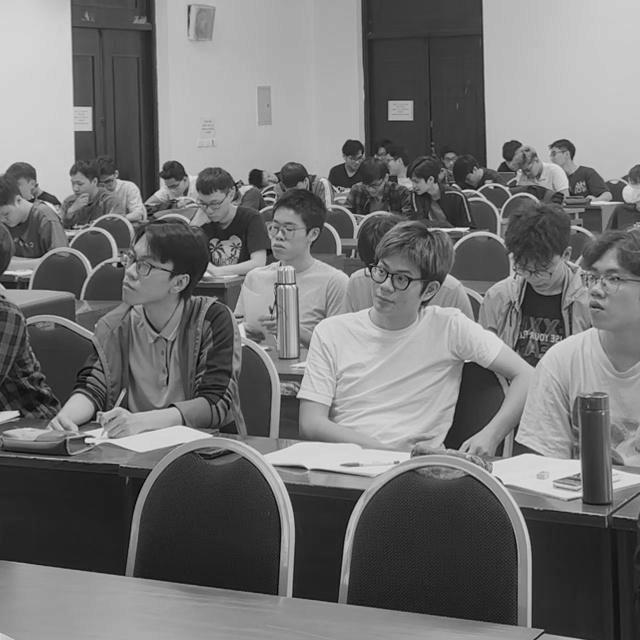Looking away: (510, 252, 566, 295), (195, 189, 234, 222), (70, 170, 95, 202), (0, 197, 22, 228), (161, 175, 186, 200), (407, 173, 432, 198), (461, 164, 485, 190), (361, 175, 387, 196), (343, 152, 366, 171), (518, 161, 541, 180), (99, 171, 119, 191), (549, 147, 565, 167)
Looking forward: (582, 265, 636, 335), (372, 255, 418, 318), (120, 250, 164, 308), (266, 211, 304, 260)
